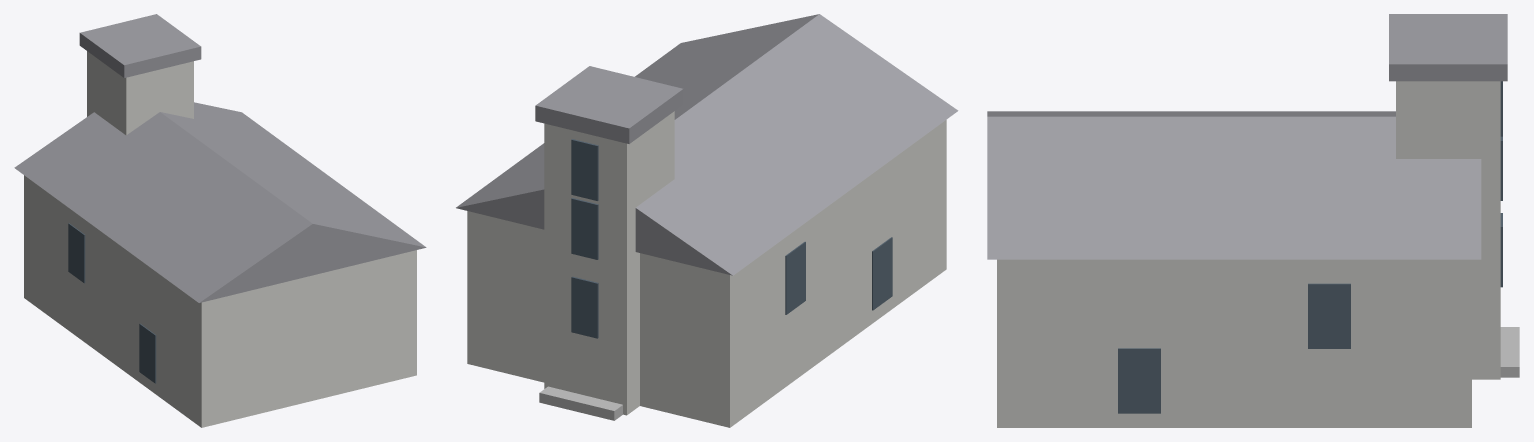
The model's file is seamens_bethel.glb.
3 renders of one model, left to right at view 1: azimuth 30°, elevation 25°; view 2: azimuth 150°, elevation 25°; view 3: azimuth 270°, elevation 25°, orthographic. The views are drawn at different scales.
Parts seen in each view (by area): view 1: bethel_body, bethel_roof, bethel_tower, bethel_tower_cap, bethel_side_-1_0, bethel_side_-1_1; view 2: bethel_body, bethel_roof, bethel_tower, bethel_tower_cap, bethel_twin_5.0, bethel_twin_9.0, bethel_twin_12.0, bethel_steps, bethel_side_-1_0, bethel_side_-1_1; view 3: bethel_body, bethel_roof, bethel_tower, bethel_tower_cap, bethel_side_1_0, bethel_side_1_1, bethel_steps.
Boxes of the visible parts, x1=… form: bethel_body: x1=24, y1=175, x2=416, y2=427; bethel_roof: x1=14, y1=102, x2=426, y2=302; bethel_tower: x1=87, y1=51, x2=193, y2=135; bethel_tower_cap: x1=79, y1=14, x2=201, y2=77; bethel_side_-1_0: x1=139, y1=323, x2=156, y2=383; bethel_side_-1_1: x1=68, y1=223, x2=85, y2=283; bethel_body: x1=467, y1=120, x2=946, y2=427; bethel_roof: x1=456, y1=14, x2=958, y2=275; bethel_tower: x1=544, y1=111, x2=674, y2=415; bethel_tower_cap: x1=535, y1=66, x2=683, y2=143; bethel_twin_5.0: x1=571, y1=276, x2=598, y2=338; bethel_twin_9.0: x1=571, y1=198, x2=598, y2=259; bethel_twin_12.0: x1=571, y1=139, x2=598, y2=200; bethel_steps: x1=539, y1=386, x2=622, y2=420; bethel_side_-1_0: x1=872, y1=237, x2=892, y2=310; bethel_side_-1_1: x1=785, y1=241, x2=805, y2=314; bethel_body: x1=997, y1=259, x2=1471, y2=427; bethel_roof: x1=987, y1=111, x2=1481, y2=259; bethel_tower: x1=1396, y1=81, x2=1500, y2=379; bethel_tower_cap: x1=1389, y1=14, x2=1507, y2=81; bethel_side_1_0: x1=1118, y1=348, x2=1160, y2=413; bethel_side_1_1: x1=1308, y1=283, x2=1350, y2=348; bethel_steps: x1=1500, y1=327, x2=1519, y2=377.
Bounding box in the file's own units: 14.8 × 14.8 × 22.4.
